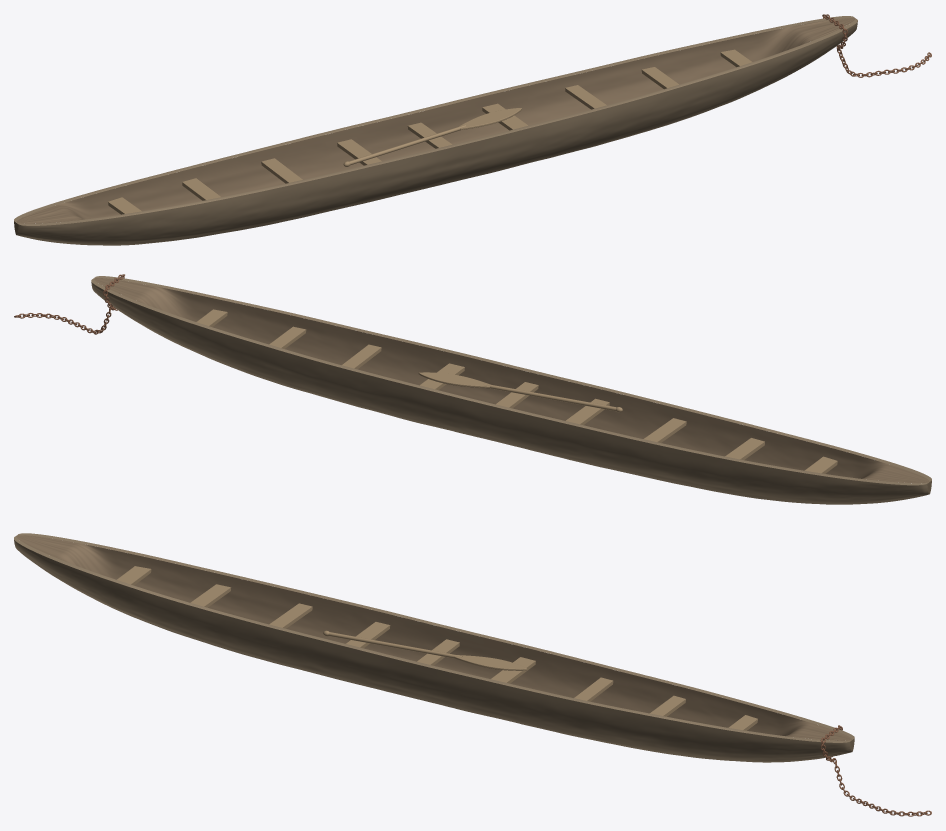
The model's file is pirogue-peche.glb.
3 views of the same model, one above another, from view 1: azimuth 30°, elevation 25°; view 2: azimuth 150°, elevation 25°; view 3: azimuth 330°, elevation 25° (orthographic).
Visible parts, largest first — view 1: coque_exterieur, coque_interieur, banc_01, chaine_amarrage; view 2: coque_exterieur, coque_interieur, banc_01, chaine_amarrage; view 3: coque_exterieur, coque_interieur, banc_01, chaine_amarrage.
Part boxes in pixels (<box>): coque_exterieur: <box>14,16,857,245</box>; coque_interieur: <box>16,18,855,223</box>; banc_01: <box>108,49,752,214</box>; chaine_amarrage: <box>822,14,931,77</box>; coque_exterieur: <box>91,276,931,504</box>; coque_interieur: <box>93,278,929,483</box>; banc_01: <box>196,309,837,473</box>; chaine_amarrage: <box>14,274,124,334</box>; coque_exterieur: <box>14,533,854,762</box>; coque_interieur: <box>16,535,852,740</box>; banc_01: <box>117,566,757,730</box>; chaine_amarrage: <box>820,725,931,816</box>.
Size of the model in its own units: 8.74 by 0.5611 by 0.7803.
